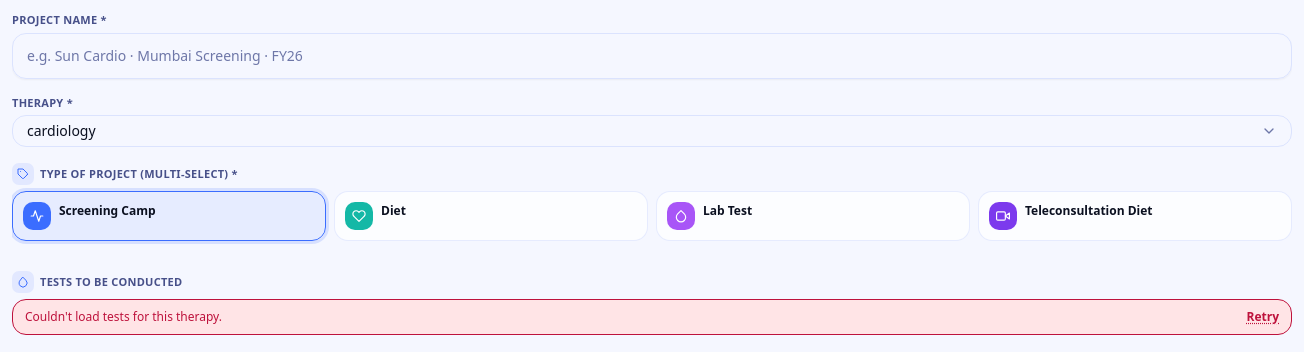
Test: WizardStep1 — therapy + project-type-filtered tests › retries the tests query when Retry is clicked after a failure
Click the button "Retry" at coordinates (1263, 317), box [1246, 308, 1279, 326]
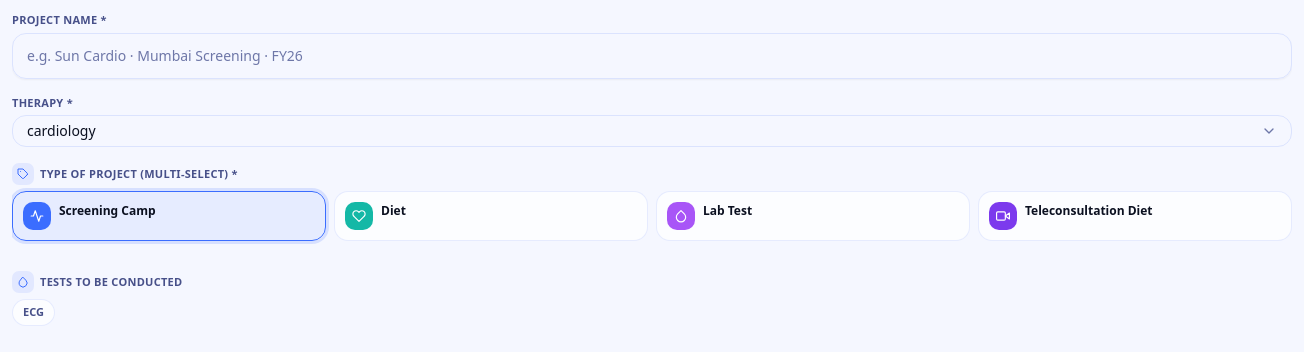
Check: the button "ECG" is shown, box [12, 299, 55, 326]
